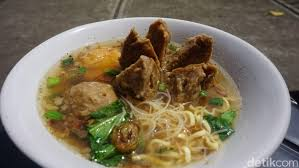bakso: (87, 25, 231, 108)
